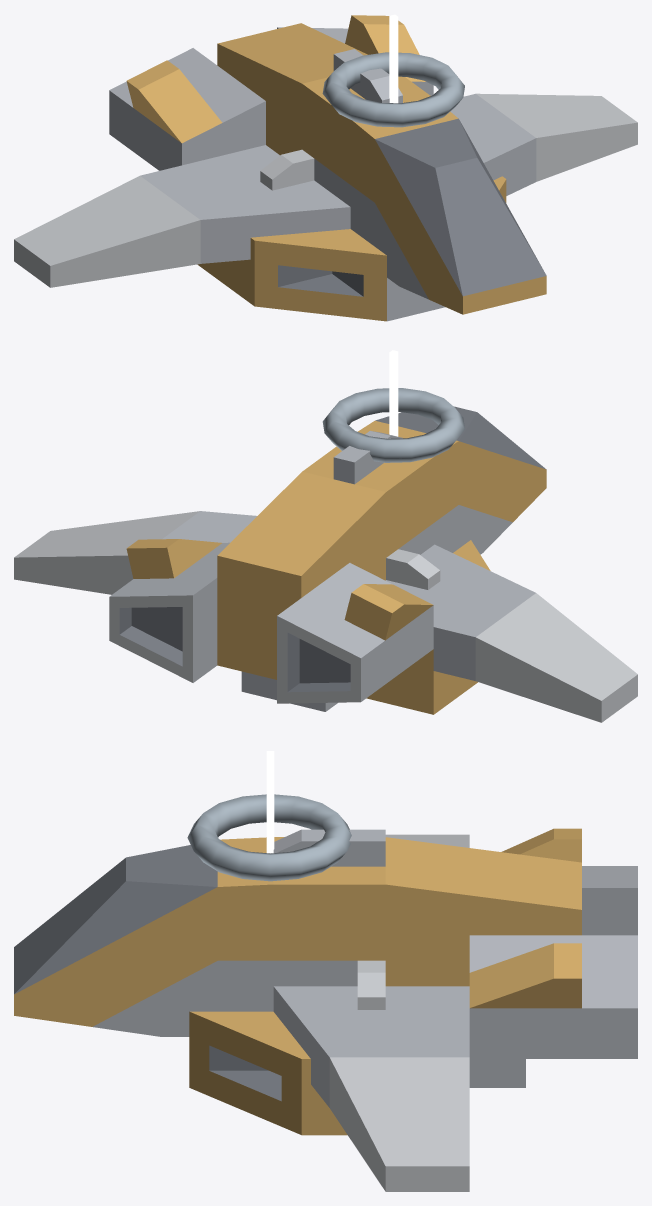
The model's file is npc_customs.glb.
The picture shows the model from 3 angles, top to bottom: view 1: azimuth 30°, elevation 25°; view 2: azimuth 150°, elevation 25°; view 3: azimuth 270°, elevation 25°; orthographic projection. The views are drawn at different scales.
Parts seen in each view (by area): view 1: npc_customs; view 2: npc_customs; view 3: npc_customs.
Part boxes in pixels (x1,y1,x2,y2): npc_customs: (14,14,637,321); npc_customs: (14,350,637,722); npc_customs: (14,751,637,1191).
Size of the model in its own units: 1.84 by 0.8059 by 1.46.
